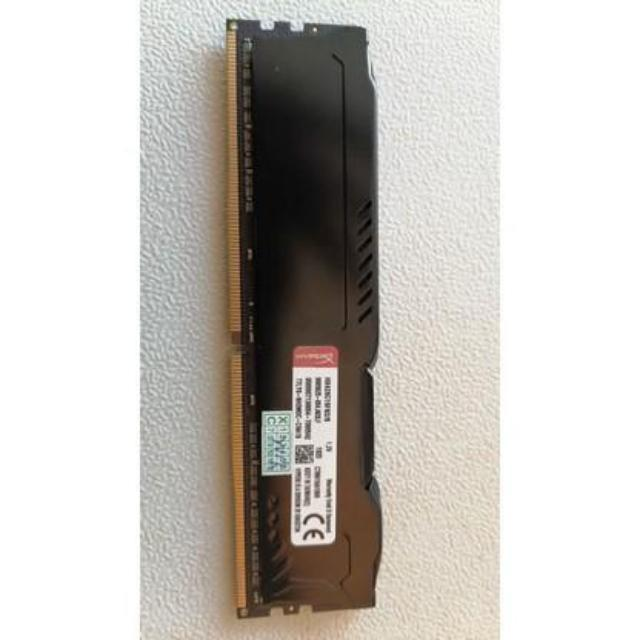RAM: (208, 11, 408, 622)
